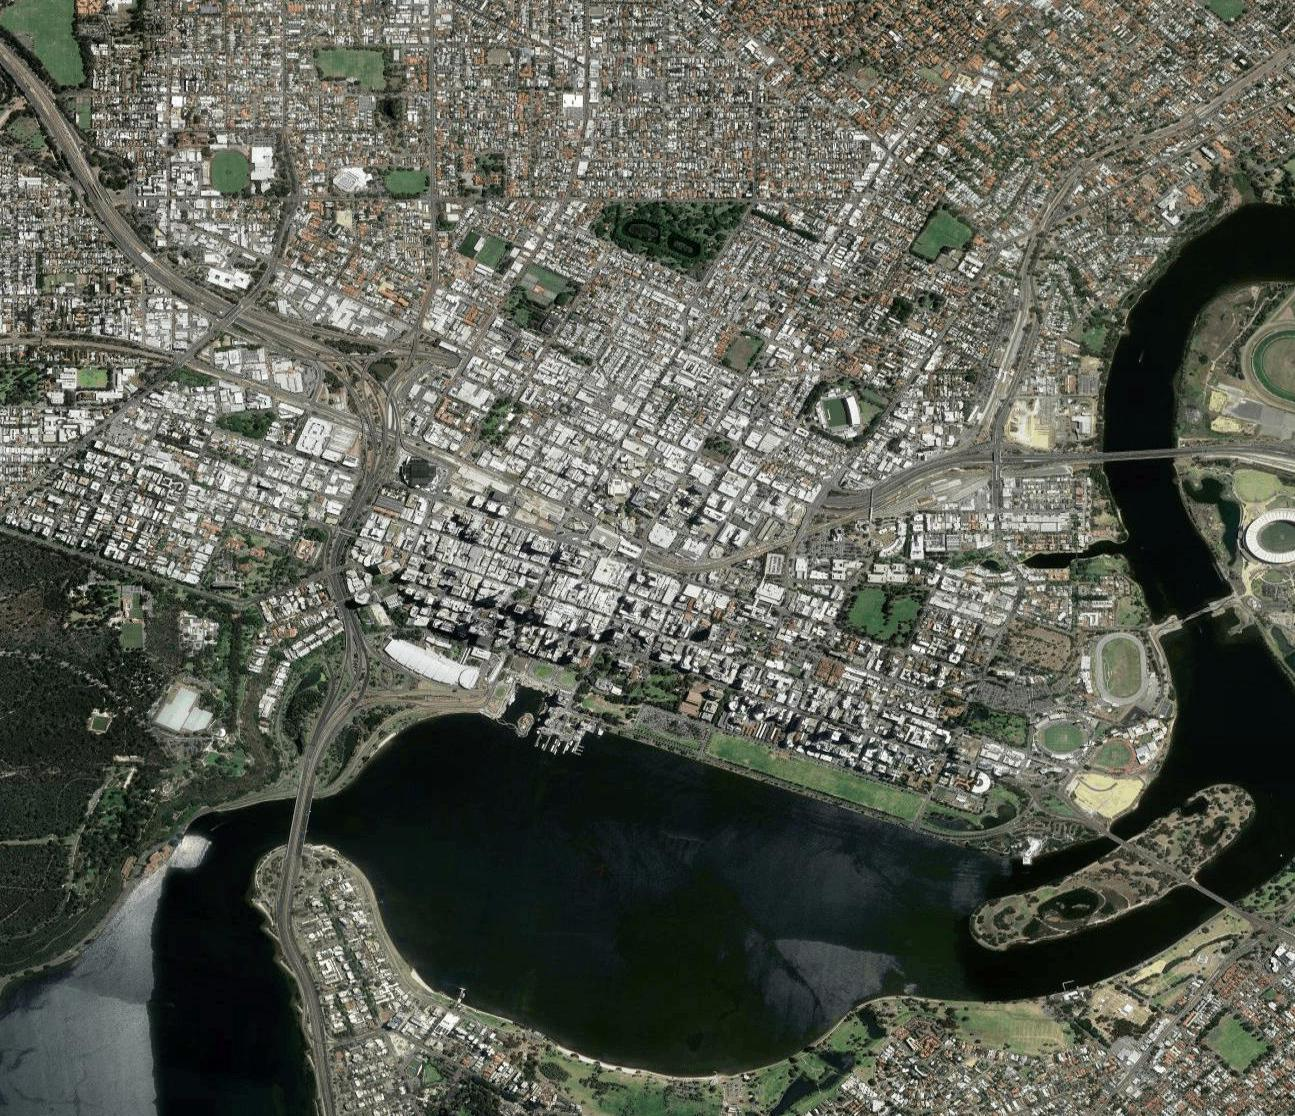bridge: (1097, 443, 1179, 469), (281, 794, 319, 850), (210, 288, 253, 327), (1185, 876, 1228, 908), (1101, 827, 1127, 846)
motorway: (1, 42, 99, 189), (292, 327, 395, 408), (173, 277, 291, 340), (89, 191, 172, 281), (319, 608, 373, 732), (348, 410, 399, 513), (290, 727, 326, 852), (277, 855, 308, 982), (306, 989, 336, 1116), (322, 514, 356, 614)
train_station: (588, 522, 645, 563)
